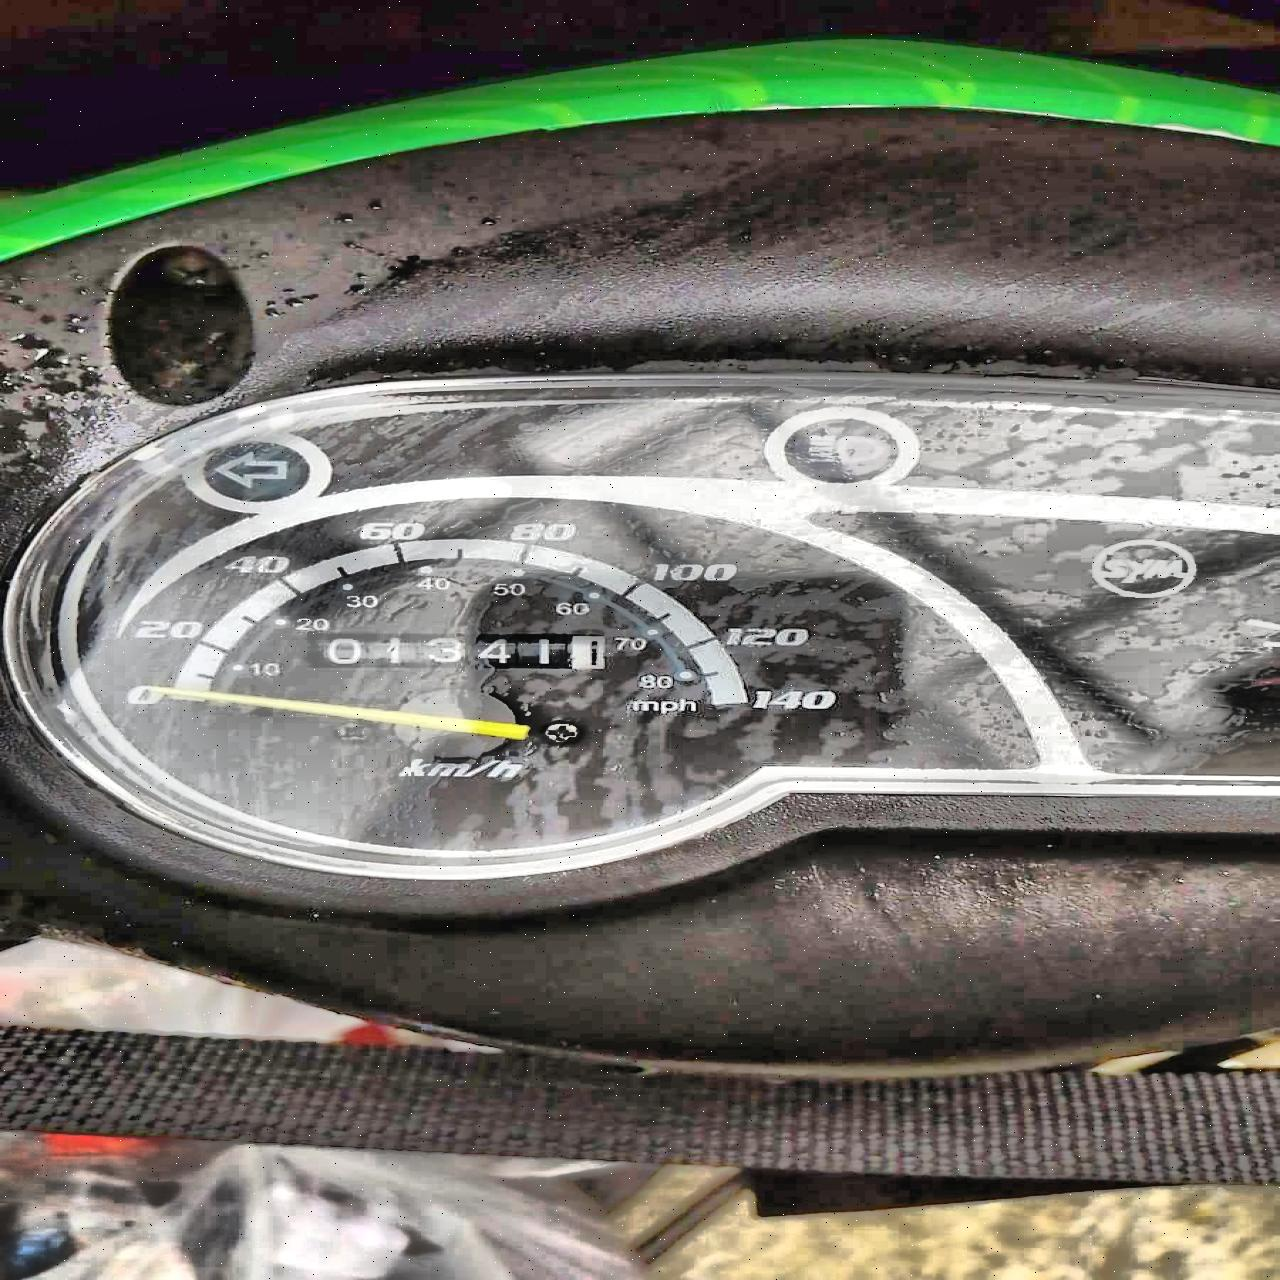0: (324, 636, 365, 666)
1: (578, 636, 607, 669), (382, 635, 409, 666), (530, 636, 552, 668)
3: (427, 633, 463, 665)
4: (475, 636, 512, 666)
odometer: (298, 631, 615, 673)
